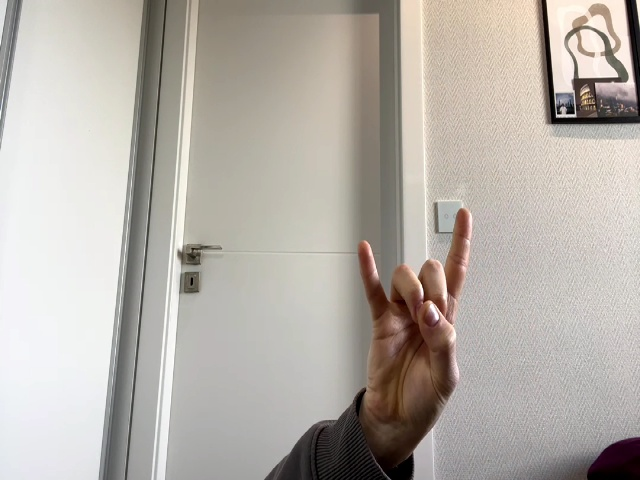Y: (358, 209, 473, 412)
